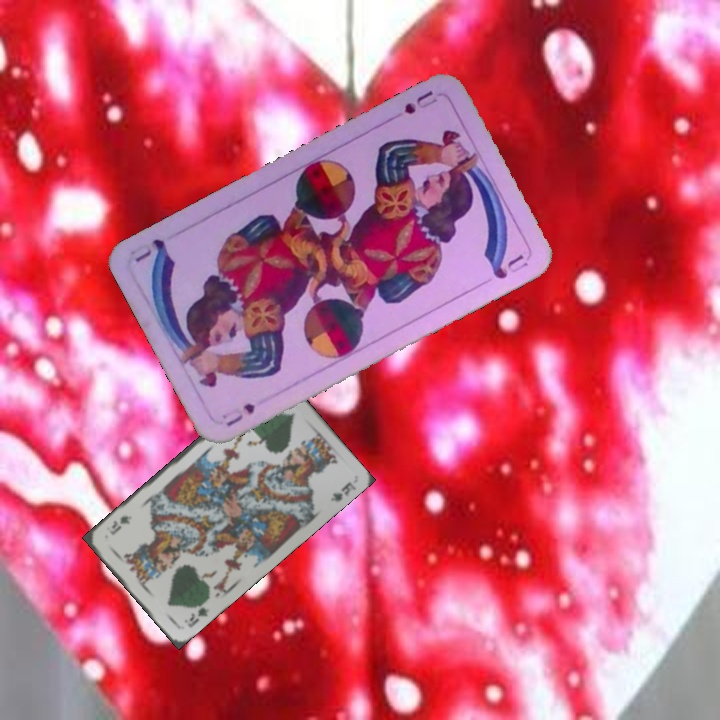GK: (180, 603, 212, 630)
SU: (400, 86, 440, 117), (221, 399, 258, 429)
